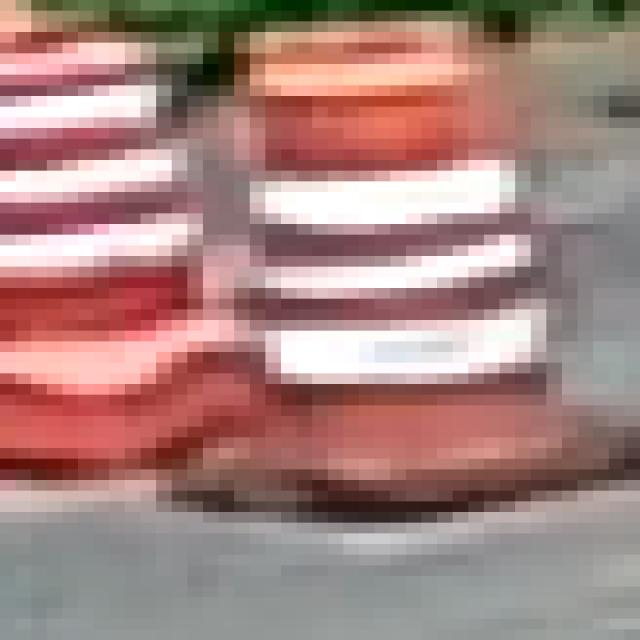big_cone: (194, 12, 632, 530), (0, 13, 180, 533)
